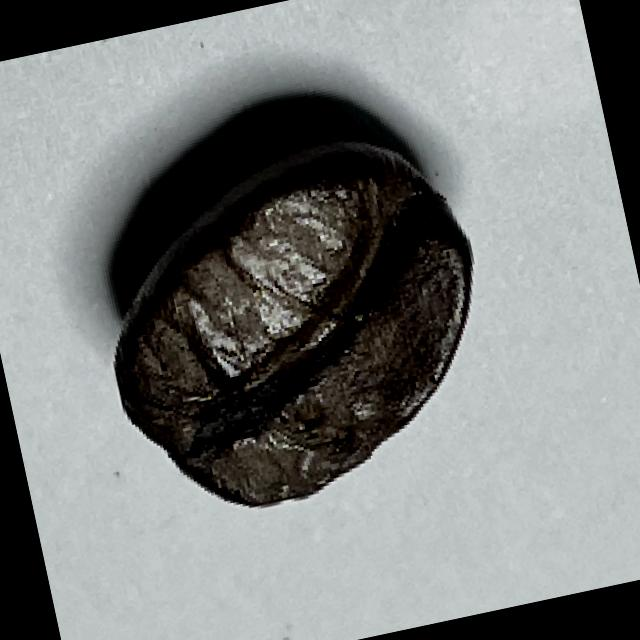bean: (75, 119, 514, 534)
